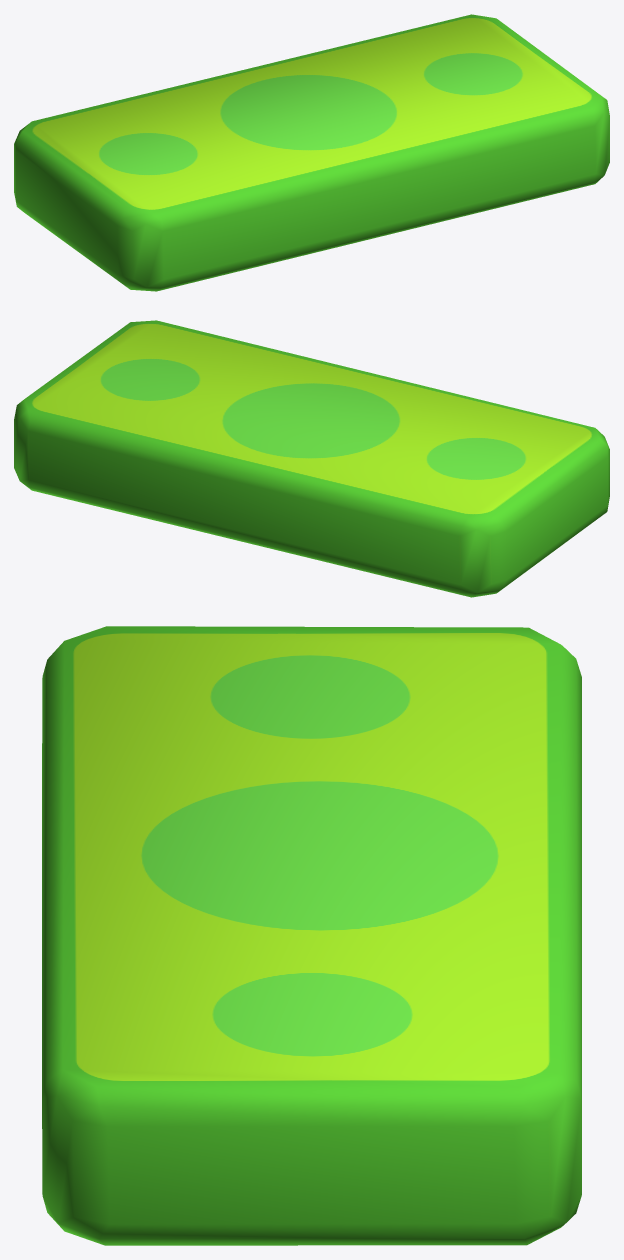
File: para.fbx
3 views of the same model, one above another, from view 1: azimuth 30°, elevation 25°; view 2: azimuth 150°, elevation 25°; view 3: azimuth 270°, elevation 25° (orthographic). The views are drawn at different scales.
Visible parts, largest first — view 1: para; view 2: para; view 3: para.
Part boxes in pixels (bbox=[...]): para: bbox=[14, 14, 609, 291]; para: bbox=[14, 320, 609, 597]; para: bbox=[42, 626, 581, 1245].
Size of the model in its own units: 135 by 20.89 by 64.5.
1 material, 1 textured.
